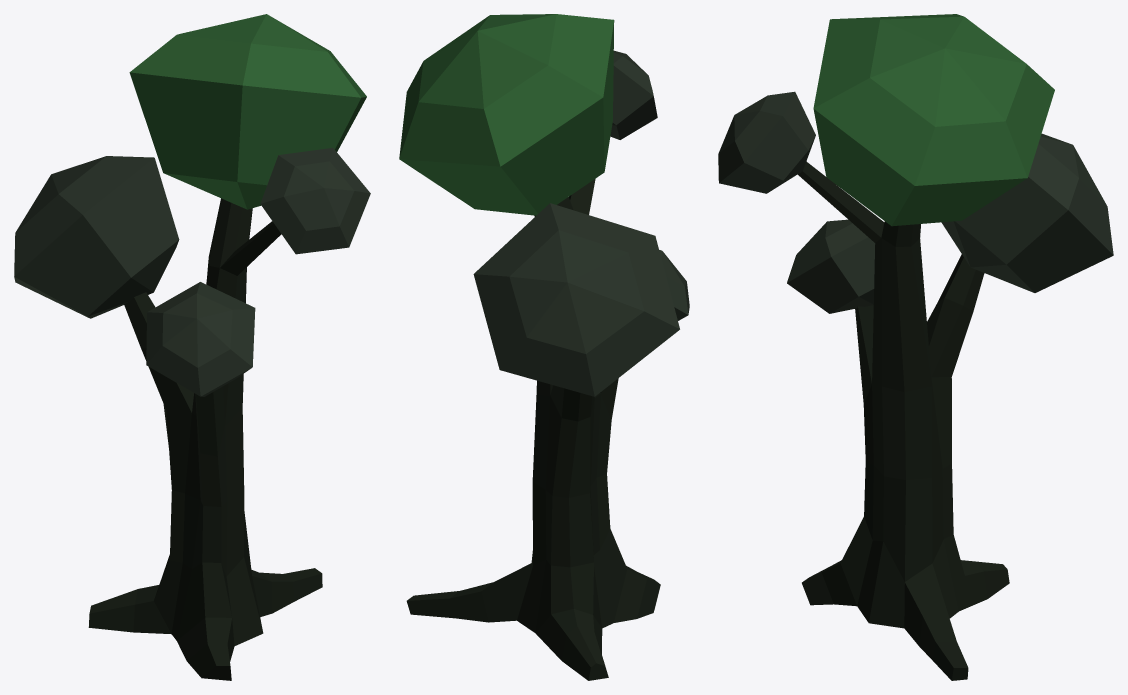
Rendered from tree3_2.FBX.
3 renders of one model, left to right at view 1: azimuth 30°, elevation 25°; view 2: azimuth 150°, elevation 25°; view 3: azimuth 270°, elevation 25°, orthographic. The views are drawn at different scales.
Parts seen in each view (by area): view 1: tree3_2; view 2: tree3_2; view 3: tree3_2.
Part boxes in pixels (x1,y1,x2,y2): tree3_2: (14, 14, 370, 680); tree3_2: (399, 14, 689, 680); tree3_2: (718, 14, 1113, 680).
Size of what is drawn, in the model's own units: 178 by 190 by 324.
